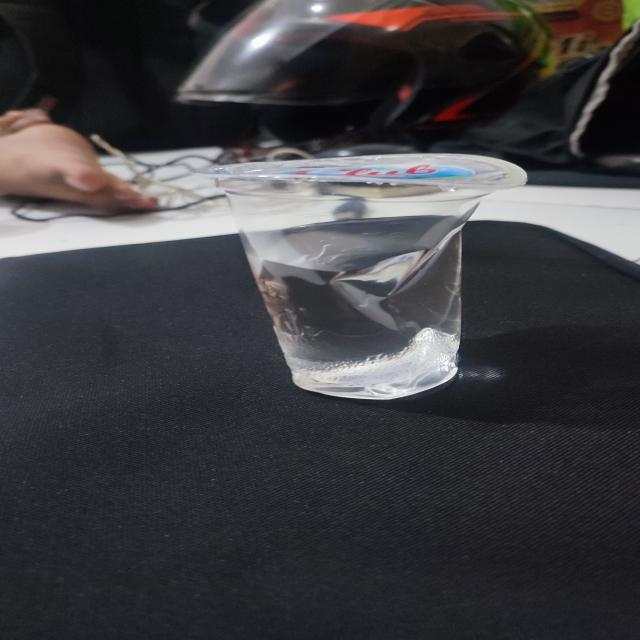air-gelas-rusak: (212, 151, 533, 401)
